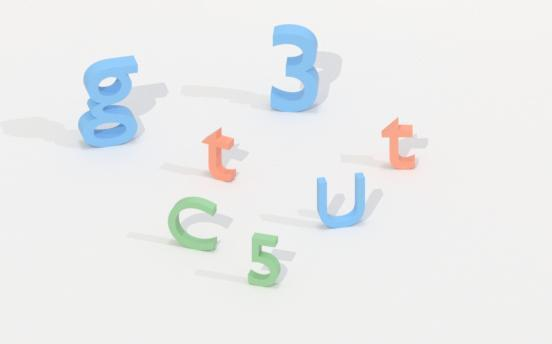chu_khoi: (78, 56, 137, 147), (317, 172, 365, 227), (168, 197, 217, 250), (202, 128, 235, 181), (382, 118, 415, 169)
so_khoi: (270, 24, 318, 111), (248, 233, 280, 286)
